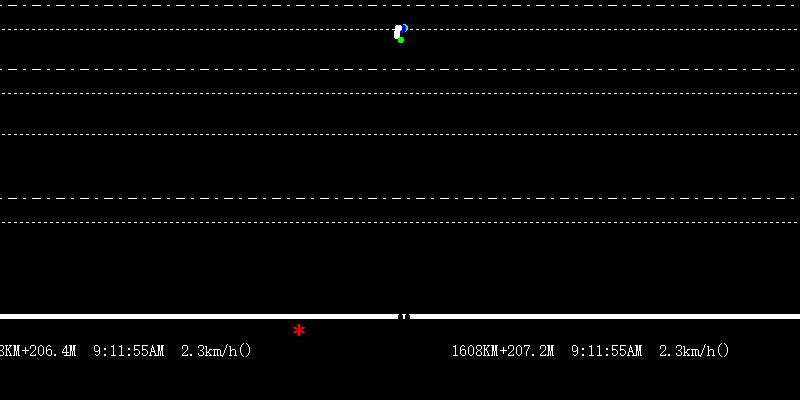face_2: (393, 21, 408, 41)
star: (288, 322, 308, 339)
